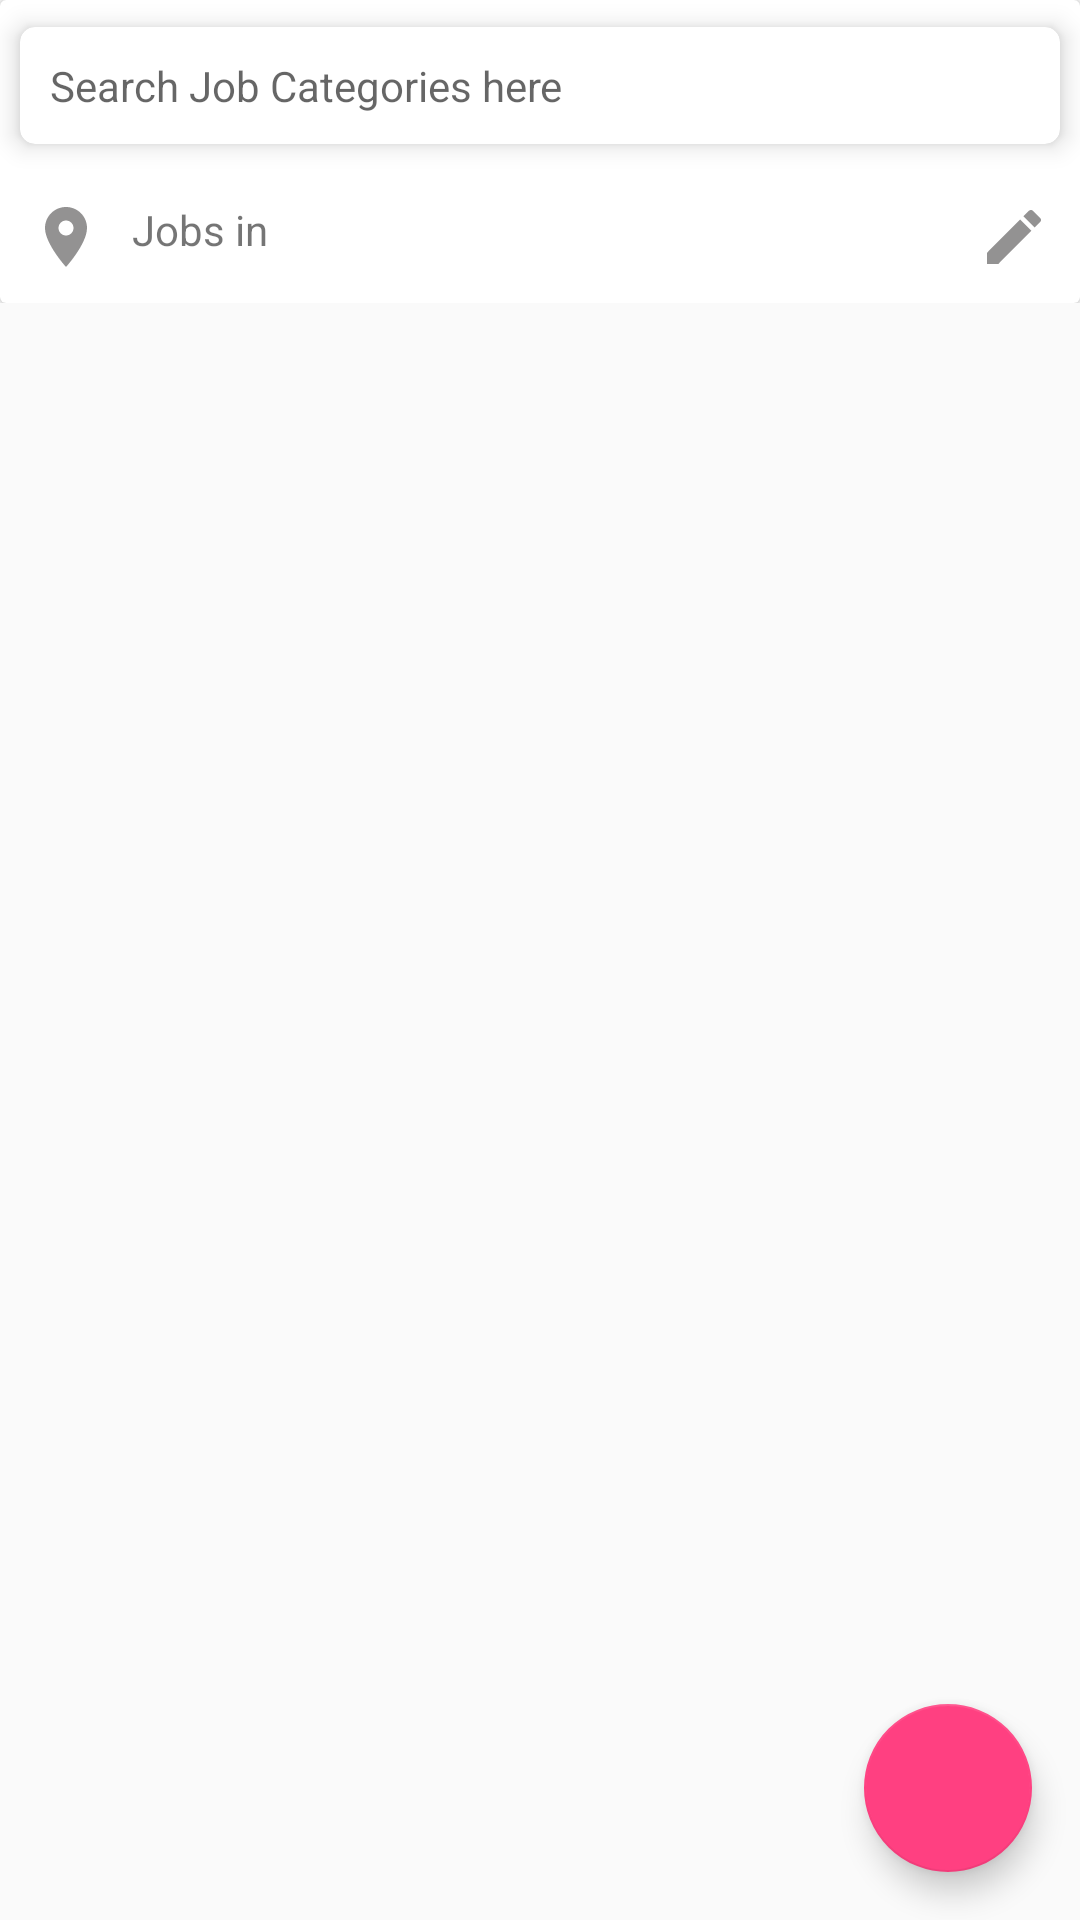

Named icons in this screenshot (1080px x 1920px) and their centers, point (x, y):
edit: point (1014, 237)
location on: point (66, 237)
